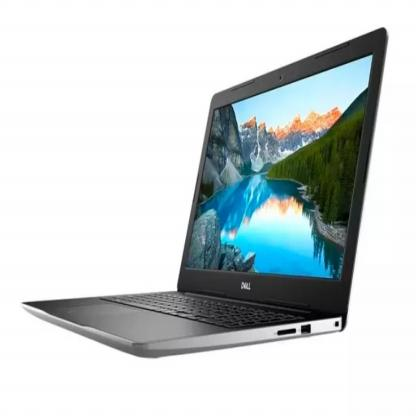NOTEBOOK: (30, 44, 416, 416)
